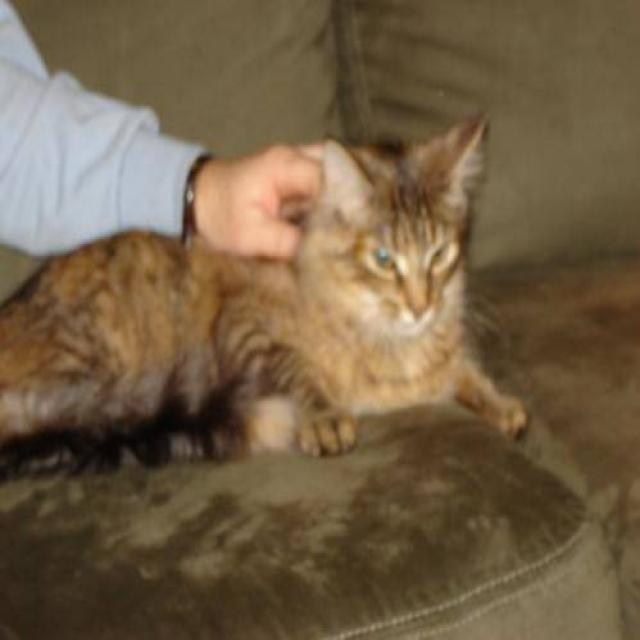cat: (0, 108, 530, 486)
